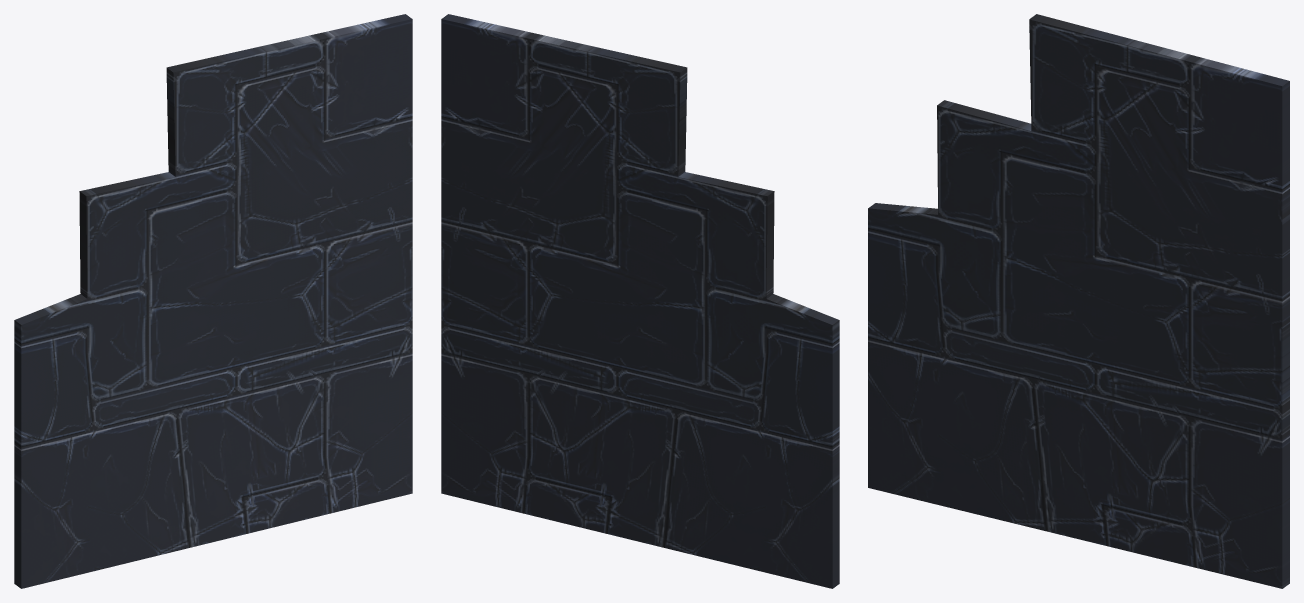
Rendered from polygonalmind-lunar-year-030.glb.
3 views of the same model, side by side, from view 1: azimuth 30°, elevation 25°; view 2: azimuth 150°, elevation 25°; view 3: azimuth 330°, elevation 25° (orthographic). The views are drawn at different scales.
Visible parts, largest first — view 1: LunarYearTile; view 2: LunarYearTile; view 3: LunarYearTile.
Part boxes in pixels (x1=…): LunarYearTile: x1=14, y1=14, x2=412, y2=588; LunarYearTile: x1=441, y1=14, x2=839, y2=588; LunarYearTile: x1=868, y1=14, x2=1289, y2=588.
Bounding box in the file's own units: 2.24 × 2.63 × 0.0692.
1 material, 1 textured.
